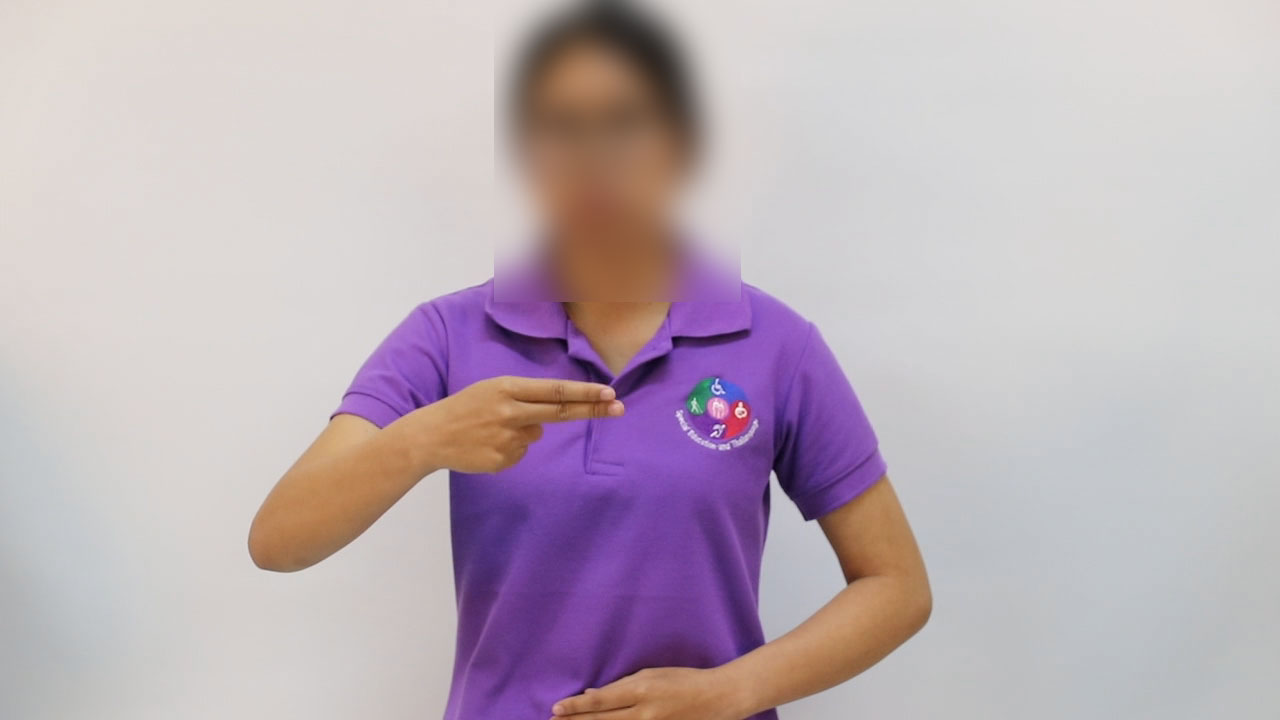hor: (401, 367, 637, 485)
